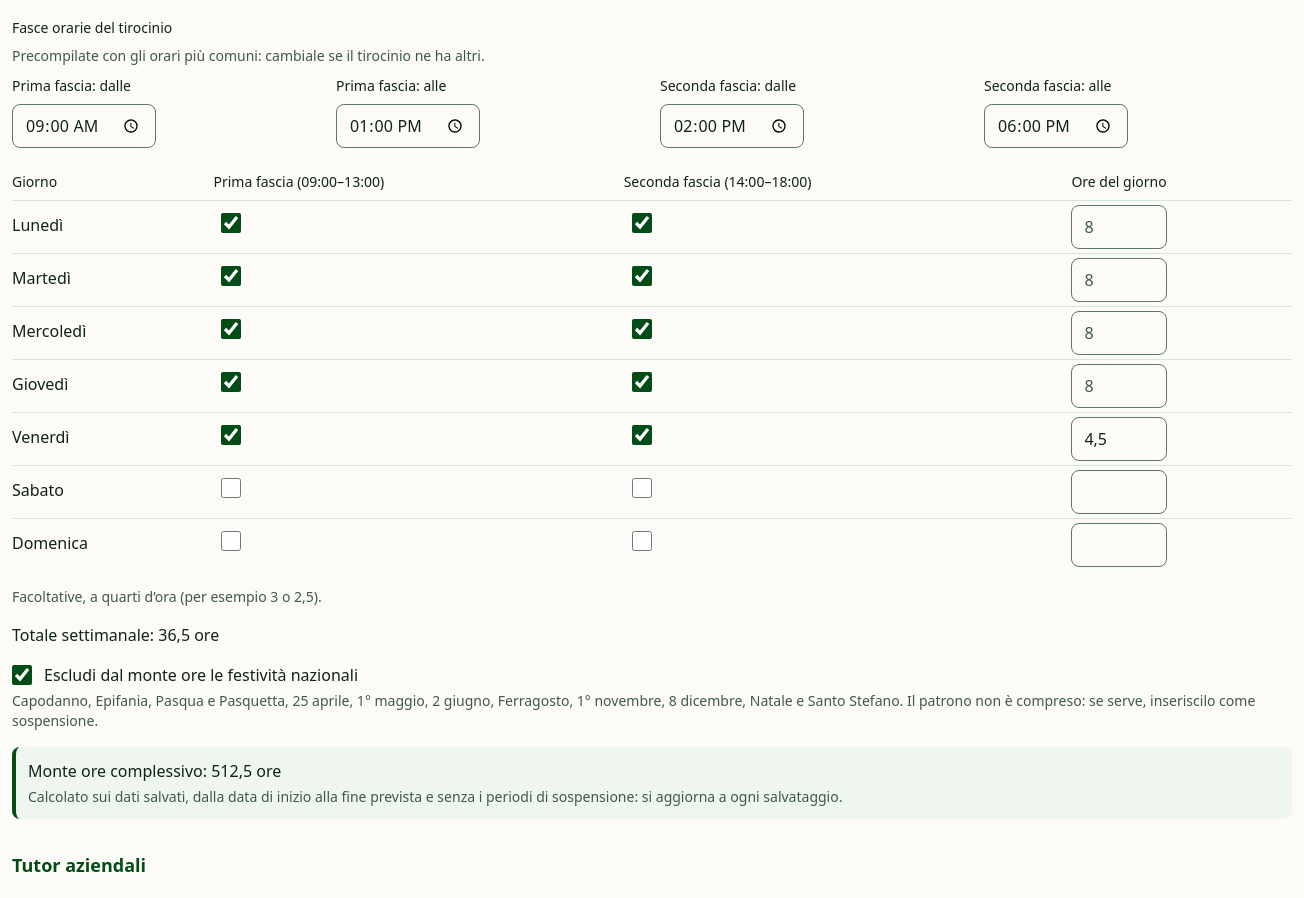
<InternshipForm> › griglia salvata e monte ore; oltre 40 ore settimanali non si salva
The width and height of the screenshot is (1304, 898).
(page scrolled)
Expected: the text "Monte ore complessivo: 512,5 ore" is shown, left=28, top=760, right=281, bottom=782
Expected: the field named "Ore di venerdì" holds "4,5", left=1071, top=417, right=1167, bottom=461
Step 1. Click the checkbox named "Sabato, Prima fascia" → [232, 488], box left=222, top=478, right=242, bottom=498
(page scrolled)
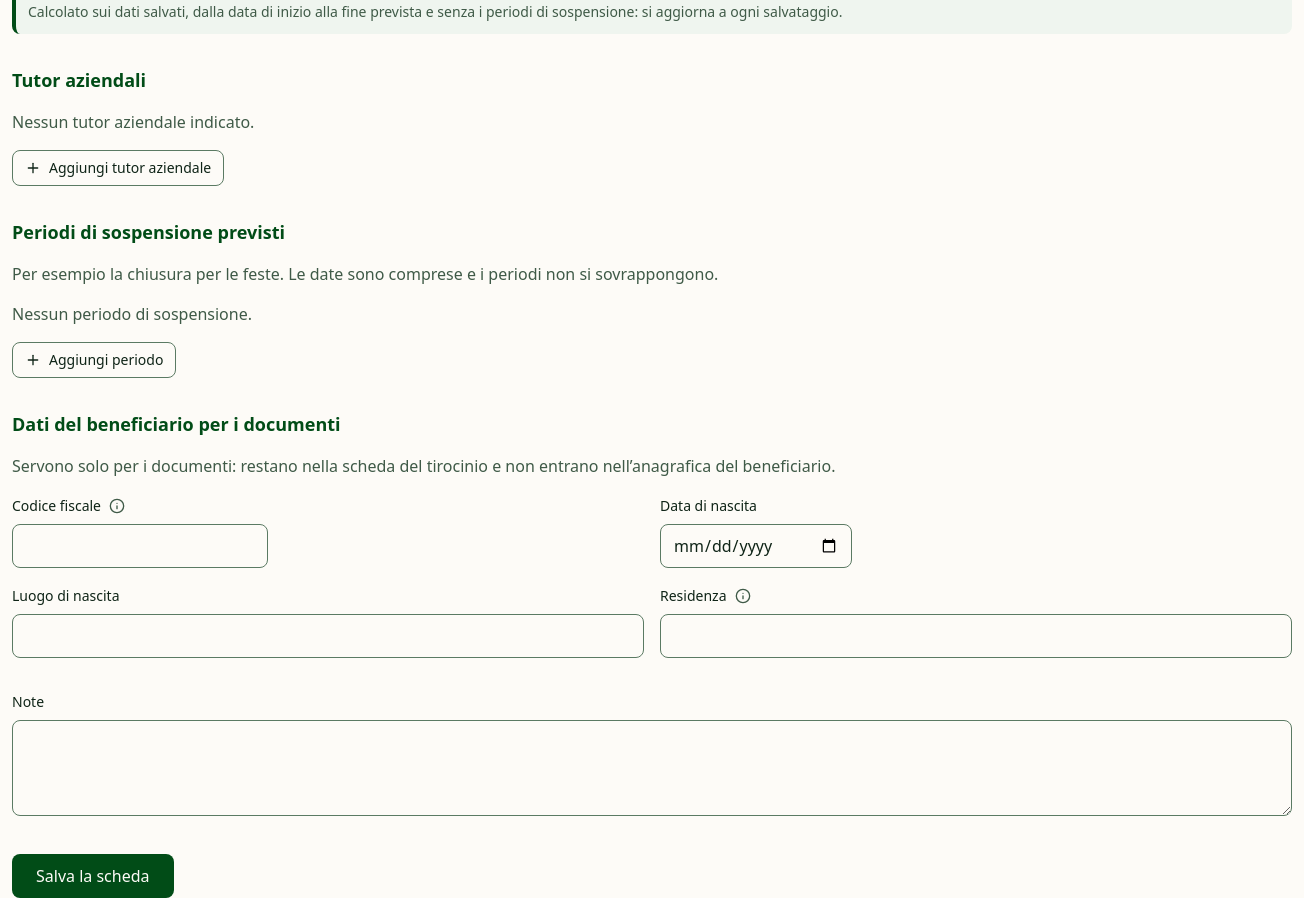
Step 2. Click the button "Salva la scheda" → [93, 876], box left=12, top=854, right=174, bottom=897
(page scrolled)
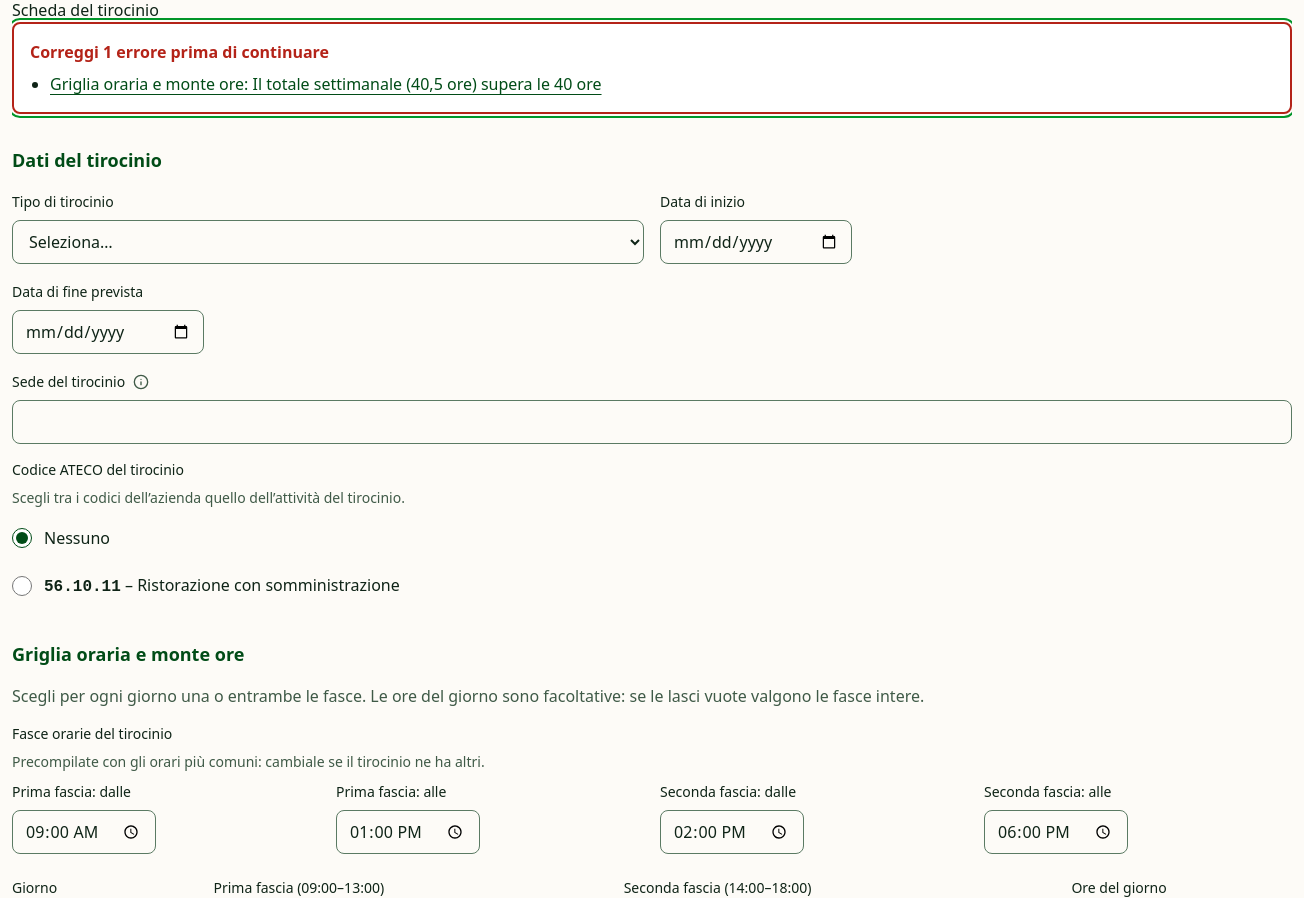
Result: the link "Griglia oraria e monte ore: Il totale settimanale (40,5 ore) supera le 40 ore" is shown at left=50, top=73, right=602, bottom=95
